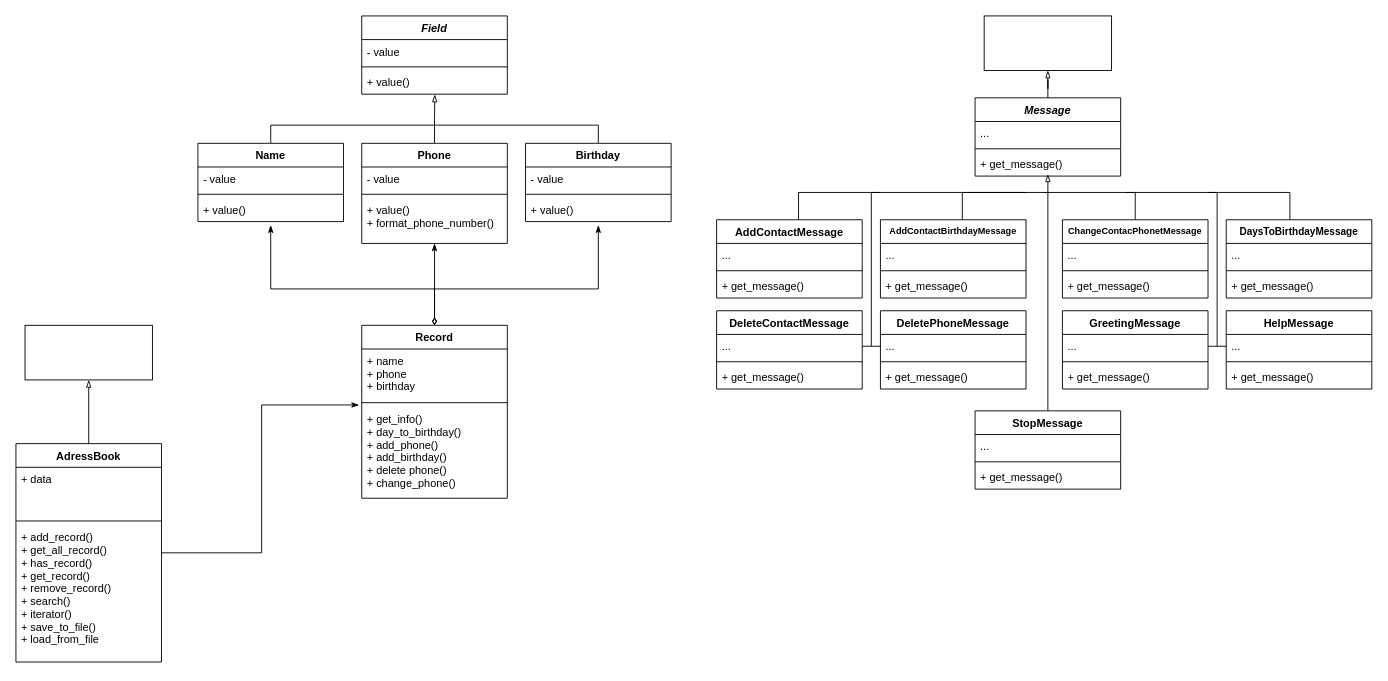
Some shapes in this 1388 by 681 pixel diagram are drawn without their labels. The centre of each missing label's shape, as x and y in pixels:
"ABC" belongs at point (1047, 43).
"UserDict" belongs at point (88, 352).
